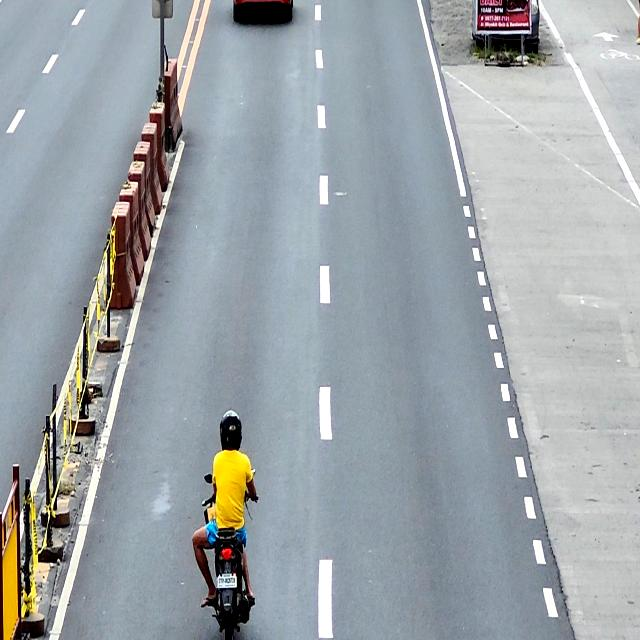License-Plate: (217, 574, 237, 590)
Motorcycle: (204, 470, 256, 640)
